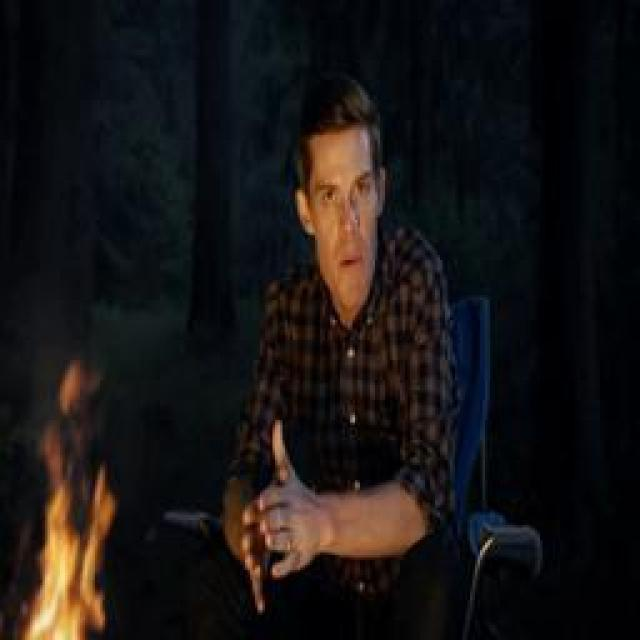Fire: (18, 362, 112, 640)
